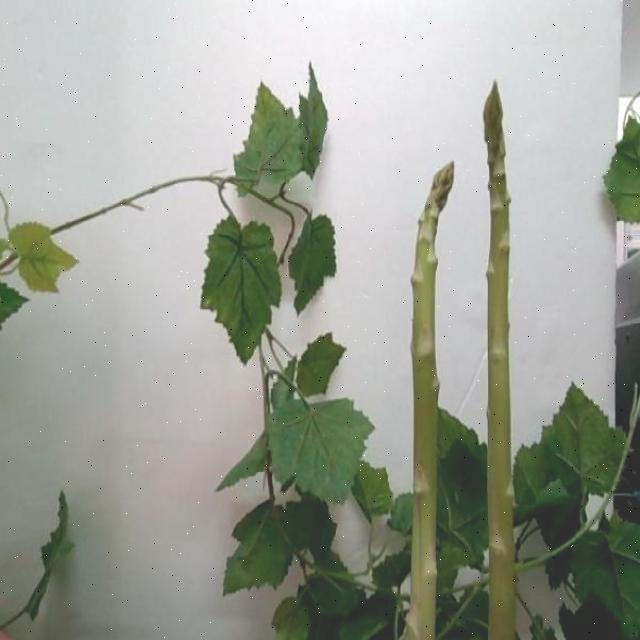aspargus: (408, 160, 455, 640), (483, 84, 519, 640)
